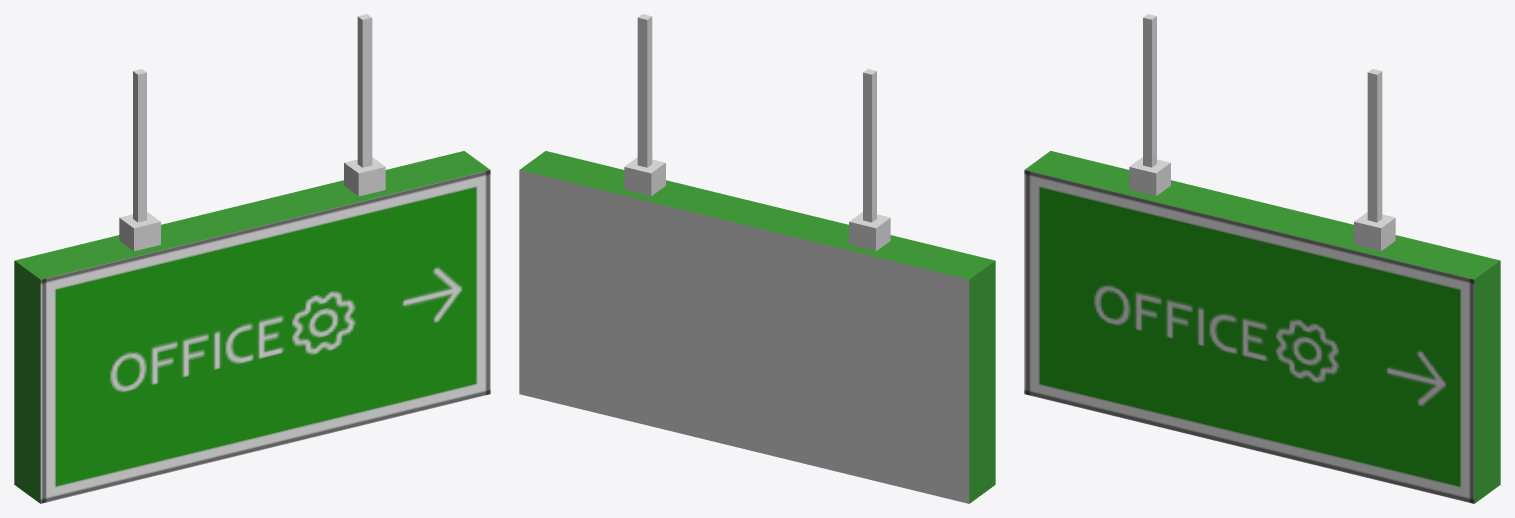
Rendered from SFOffice.fbx.
3 renders of one model, left to right at view 1: azimuth 30°, elevation 25°; view 2: azimuth 150°, elevation 25°; view 3: azimuth 330°, elevation 25°, orthographic.
Parts seen in each view (by area): view 1: Cube; view 2: Cube; view 3: Cube.
Part boxes in pixels (bbox=[...]): Cube: bbox=[14, 14, 490, 503]; Cube: bbox=[519, 14, 995, 503]; Cube: bbox=[1024, 14, 1500, 503].
Size of the model in its own units: 368 by 309 by 37.05.
